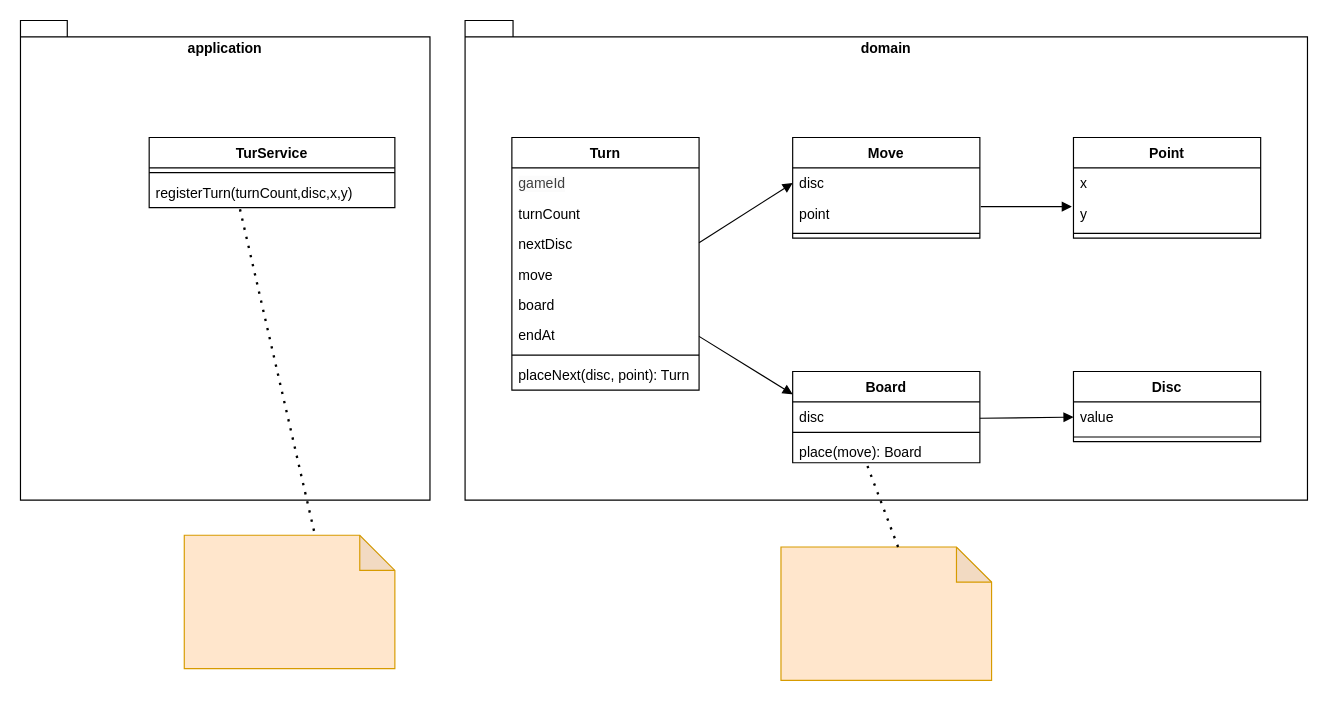
This 1328x701 diagram has some shape labels left out. Each missing label, with the centre of its shape:
"・一つ前のターンを取得する ・石を置く ・ターンを保存する" goes at (x=289, y=601).
"・石が置けるか判定する ・石を置く ・石をひっくり返す" goes at (x=886, y=613).
